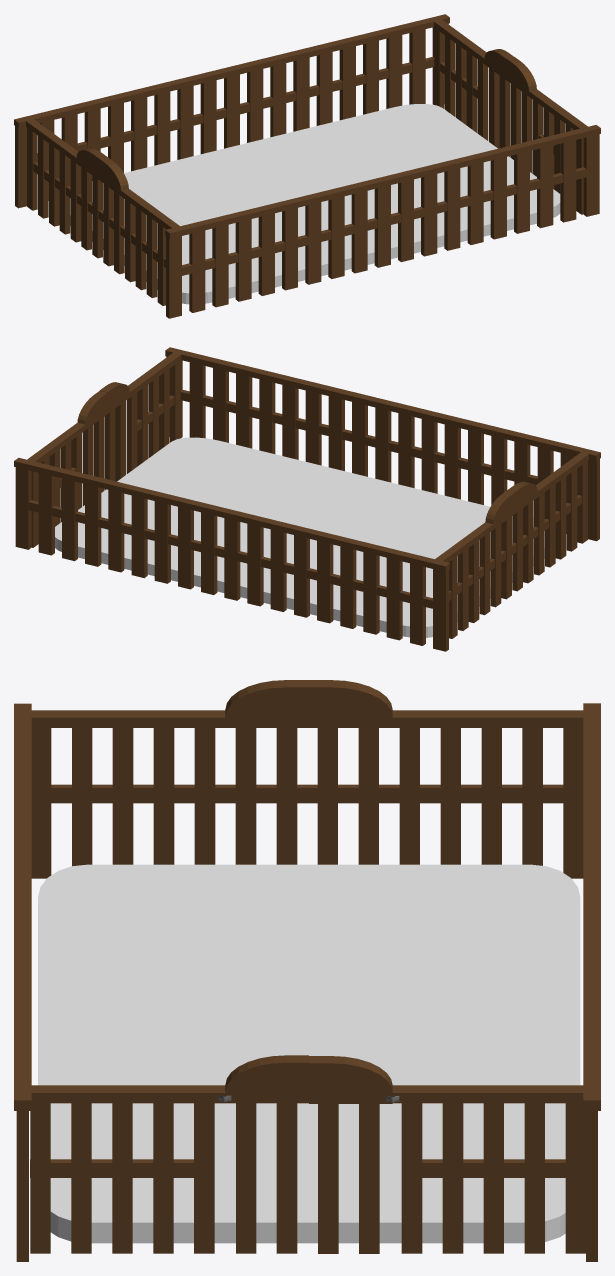
Rendered from Crib001.fbx.
3 renders of one model, top to bottom at view 1: azimuth 30°, elevation 25°; view 2: azimuth 150°, elevation 25°; view 3: azimuth 270°, elevation 25°, orthographic. The views are drawn at different scales.
Visible parts, largest first — view 1: Bed, Bed.001, Cube.009, Cube.008; view 2: Bed, Bed.001, Cube.008, Cube.009; view 3: Bed.001, Bed, Cube.008, Cube.009.
Boxes of the visible parts, box(x1,y1,x2,y2) form: Bed: box(14, 14, 600, 318); Bed.001: box(70, 104, 560, 304); Cube.009: box(484, 49, 513, 156); Cube.008: box(506, 57, 536, 173); Bed: box(14, 347, 600, 651); Bed.001: box(55, 437, 544, 637); Cube.008: box(100, 382, 129, 490); Cube.009: box(77, 391, 107, 506); Bed.001: box(38, 864, 580, 1243); Bed: box(14, 680, 600, 1261); Cube.008: box(218, 1055, 308, 1253); Cube.009: box(309, 1056, 399, 1253).
Size of the model in its own units: 1122 by 255 by 701.
